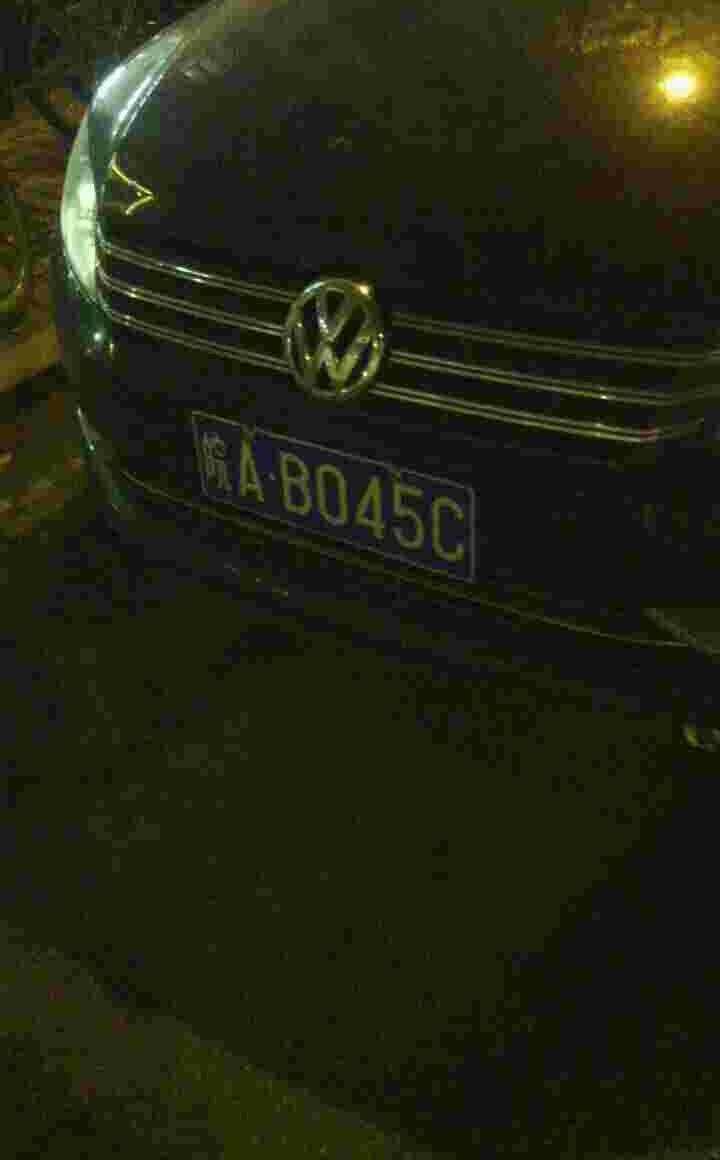car: (188, 408, 471, 563)
